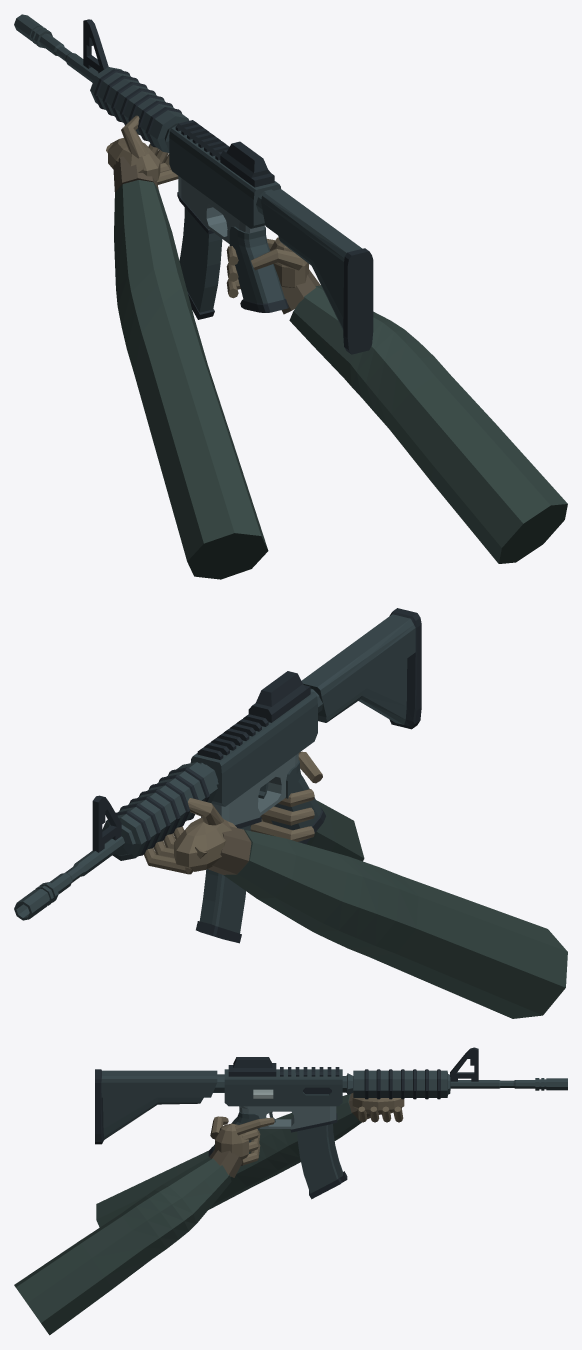
Rendered from fp-arms-rx24.glb.
3 views of the same model, one above another, from view 1: azimuth 30°, elevation 25°; view 2: azimuth 150°, elevation 25°; view 3: azimuth 270°, elevation 25° (orthographic). The views are drawn at different scales.
Parts seen in each view (by area): view 1: support-hand, trigger-hand, rifle-static, rifle-magazine; view 2: support-hand, rifle-static, trigger-hand, rifle-magazine; view 3: rifle-static, trigger-hand, support-hand, rifle-magazine.
Boxes of the visible parts, <box> form: support-hand: <box>106,115,268,579</box>; trigger-hand: <box>226,237,567,563</box>; rifle-static: <box>14,14,373,354</box>; rifle-magazine: <box>179,207,222,319</box>; support-hand: <box>144,798,567,1018</box>; rifle-static: <box>14,608,421,920</box>; trigger-hand: <box>250,751,364,861</box>; rifle-magazine: <box>196,825,250,943</box>; rifle-static: <box>95,1047,567,1165</box>; trigger-hand: <box>14,1116,274,1335</box>; support-hand: <box>96,1093,404,1227</box>; rifle-magazine: <box>297,1124,347,1199</box>.
Size of the model in its own units: 0.4544 by 0.4703 by 0.9686.
